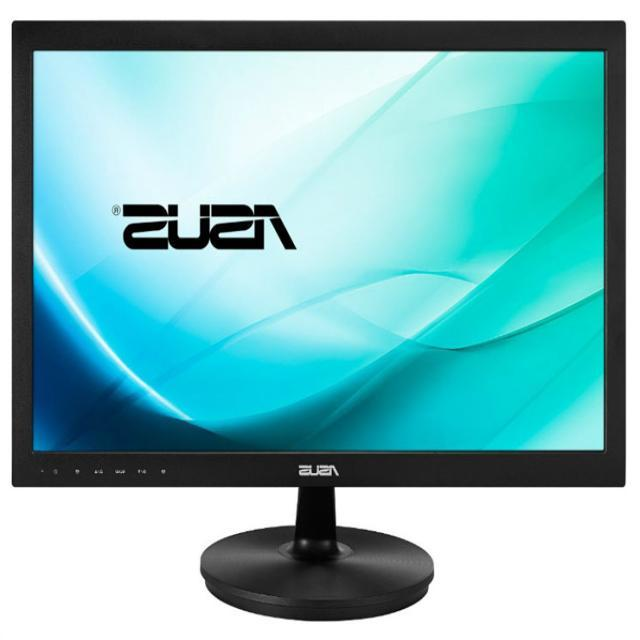monitor: (6, 19, 640, 626)
